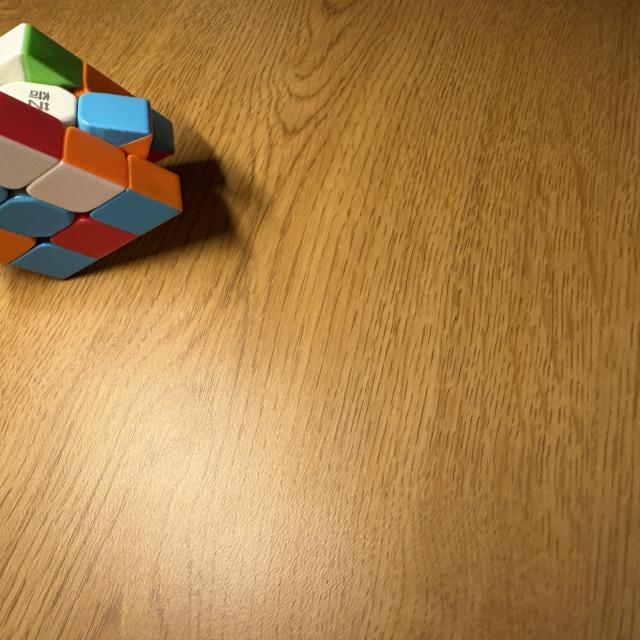Rubiks Cube: (0, 22, 181, 281)
